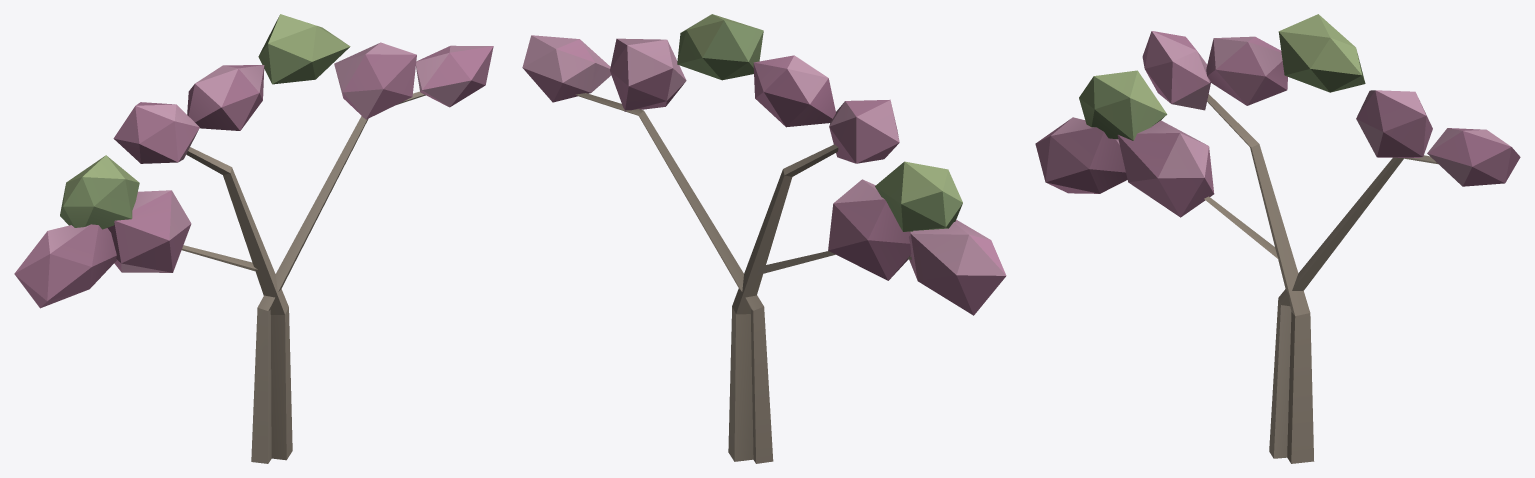
Rendered from bougain.lod2.glb.
The picture shows the model from 3 angles, left to right: view 1: azimuth 30°, elevation 25°; view 2: azimuth 150°, elevation 25°; view 3: azimuth 330°, elevation 25°; orthographic projection.
Size of the model in its own units: 3.98 by 3.47 by 0.4496.
